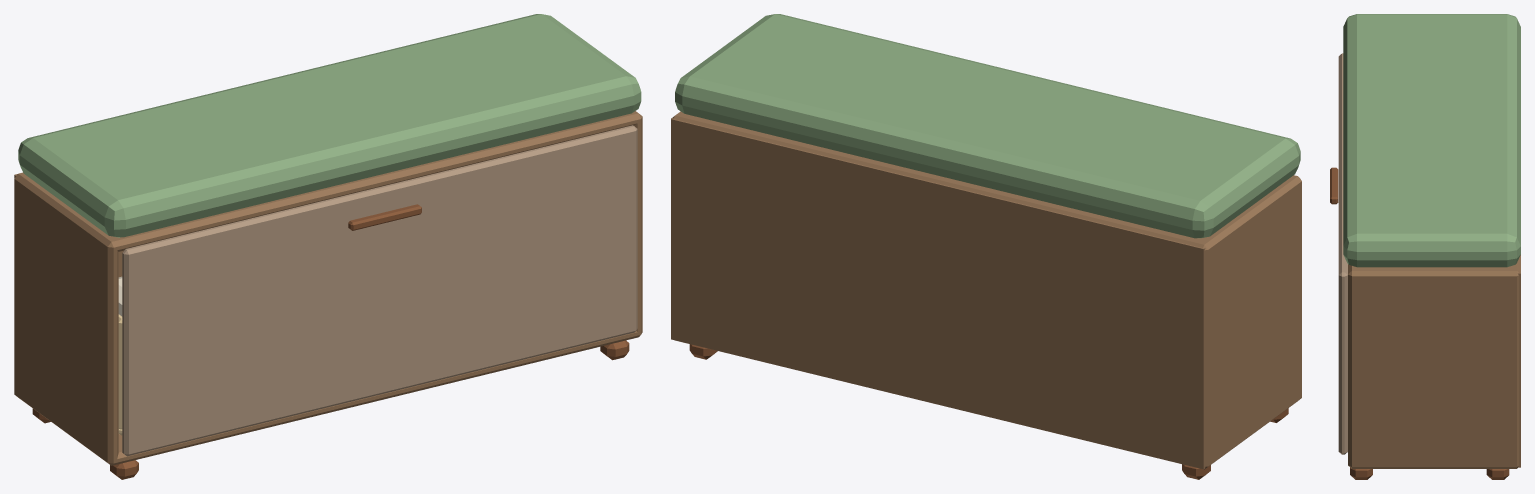
The model's file is folding_storage_bench.glb.
The picture shows the model from 3 angles, left to right: view 1: azimuth 30°, elevation 25°; view 2: azimuth 150°, elevation 25°; view 3: azimuth 270°, elevation 25°; orthographic projection. The views are drawn at different scales.
Visible parts, largest first — view 1: folding_storage_bench_Drawer, folding_storage_bench_Body; view 2: folding_storage_bench_Body; view 3: folding_storage_bench_Body, folding_storage_bench_Drawer.
Boxes of the visible parts, <box> form: folding_storage_bench_Drawer: <box>118,125,637,456</box>; folding_storage_bench_Body: <box>14,14,642,479</box>; folding_storage_bench_Body: <box>671,14,1301,479</box>; folding_storage_bench_Body: <box>1343,14,1520,479</box>; folding_storage_bench_Drawer: <box>1330,53,1347,454</box>.
Bounding box in the file's own units: 1.2 × 0.6 × 0.419.
